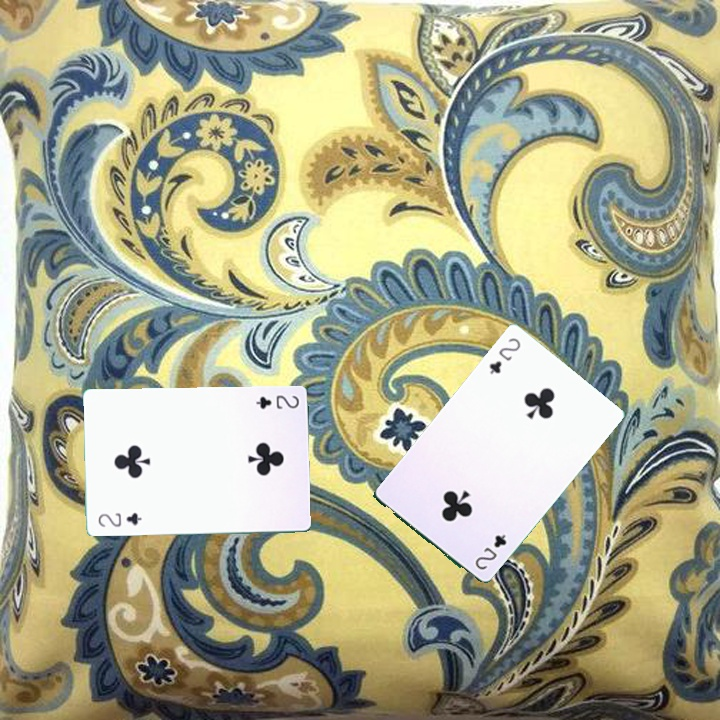2c: (485, 333, 523, 377), (471, 530, 509, 572), (94, 508, 144, 529), (251, 391, 302, 411)
